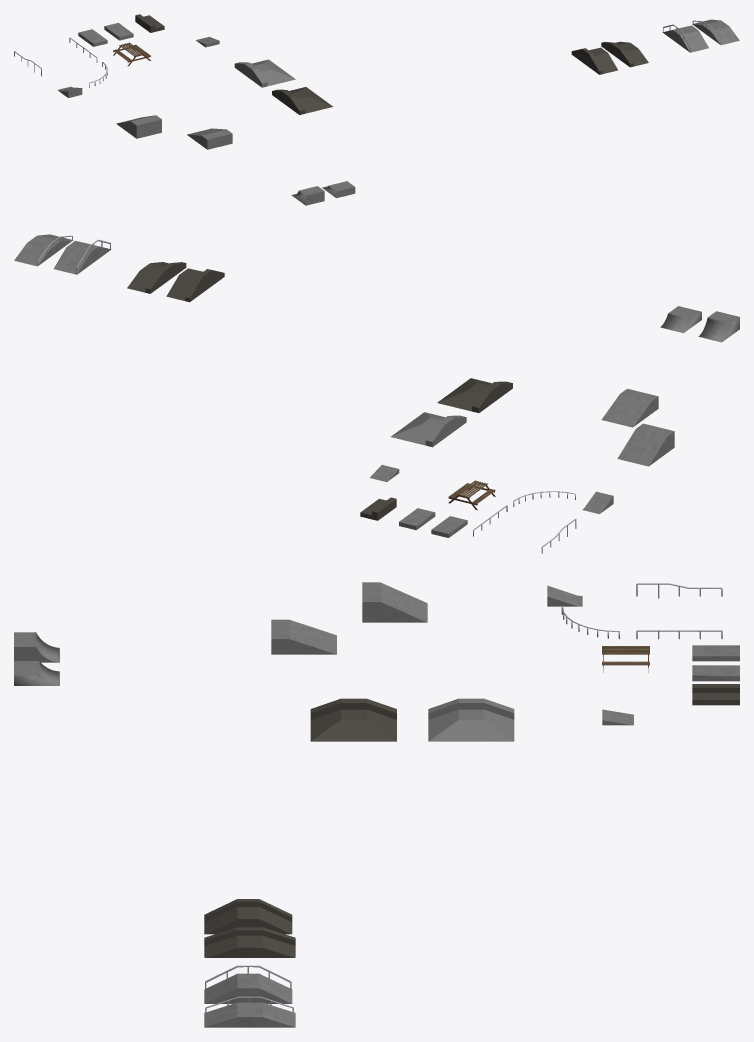
Rendered from skatepark-obstacles.glb.
3 views of the same model, one above another, from view 1: azimuth 30°, elevation 25°; view 2: azimuth 150°, elevation 25°; view 3: azimuth 270°, elevation 25° (orthographic). The views are drawn at different scales.
Visible parts, largest first — view 1: Hip with Ledge 2_41, Hip with Ledge_58, Table Top with Ledge 1_25, Table Top with Rail 2_22, Table Top with Ledge 2_24, 4 Foot Bank with Railings_2, Table Top with Rail 1_23, 3 Foot Bank_72, 3 Foot Quarterpipe_5, Picnic bench_0, 2 Foot Quarterpipe _11, Funbox 2_59; view 2: 4 Foot Bank with Railings_2, Hip with Ledge 2_41, Hip with Ledge_58, 3 Foot Bank_72, Table Top with Ledge 1_25, Table Top with Rail 2_22, Table Top with Ledge 2_24, Table Top with Rail 1_23, 3 Foot Quarterpipe_5, 2 Foot Quarterpipe _11, Picnic bench_0, Funbox 2_59; view 3: Hip with Ledge 2_41, Hip with Ledge_58, Table Top with Ledge 2_24, Table Top with Rail 2_22, Table Top with Ledge 1_25, Table Top with Rail 1_23, 4 Foot Bank with Railings_2, 3 Foot Bank_72, 3 Foot Quarterpipe_5, Funbox 2_59, 2 Foot Quarterpipe _11, Funbox with Coping_14 (+1 smaller).
Boxes of the visible parts, bbox=[...] form: Hip with Ledge 2_41: bbox=[234, 59, 295, 87]; Hip with Ledge_58: bbox=[272, 87, 333, 114]; Table Top with Ledge 1_25: bbox=[571, 47, 617, 74]; Table Top with Rail 2_22: bbox=[662, 24, 708, 52]; Table Top with Ledge 2_24: bbox=[601, 41, 648, 67]; 4 Foot Bank with Railings_2: bbox=[116, 115, 161, 138]; Table Top with Rail 1_23: bbox=[692, 19, 739, 45]; 3 Foot Bank_72: bbox=[187, 128, 232, 149]; 3 Foot Quarterpipe_5: bbox=[291, 186, 324, 205]; Picnic bench_0: bbox=[113, 42, 150, 66]; 2 Foot Quarterpipe _11: bbox=[322, 181, 355, 198]; Funbox 2_59: bbox=[135, 14, 164, 32]; 4 Foot Bank with Railings_2: bbox=[617, 423, 674, 466]; Hip with Ledge 2_41: bbox=[391, 412, 466, 447]; Hip with Ledge_58: bbox=[437, 378, 512, 412]; 3 Foot Bank_72: bbox=[601, 388, 658, 427]; Table Top with Ledge 1_25: bbox=[166, 268, 224, 302]; Table Top with Rail 2_22: bbox=[53, 239, 111, 274]; Table Top with Ledge 2_24: bbox=[127, 262, 186, 293]; Table Top with Rail 1_23: bbox=[14, 234, 73, 266]; 3 Foot Quarterpipe_5: bbox=[698, 311, 739, 342]; 2 Foot Quarterpipe _11: bbox=[660, 306, 701, 333]; Picnic bench_0: bbox=[448, 480, 495, 510]; Funbox 2_59: bbox=[360, 497, 396, 520]; Hip with Ledge 2_41: bbox=[428, 698, 514, 741]; Hip with Ledge_58: bbox=[310, 698, 396, 741]; Table Top with Ledge 2_24: bbox=[204, 927, 295, 957]; Table Top with Rail 2_22: bbox=[204, 965, 292, 1003]; Table Top with Ledge 1_25: bbox=[204, 899, 292, 934]; Table Top with Rail 1_23: bbox=[204, 996, 295, 1027]; 4 Foot Bank with Railings_2: bbox=[362, 582, 427, 622]; 3 Foot Bank_72: bbox=[271, 619, 336, 654]; 3 Foot Quarterpipe_5: bbox=[14, 632, 59, 662]; Funbox 2_59: bbox=[692, 684, 739, 705]; 2 Foot Quarterpipe _11: bbox=[14, 661, 59, 685]; Funbox with Coping_14: bbox=[692, 665, 739, 681].
Size of the model in its own units: 177 by 4.87 by 126.
5 materials, 4 textured.
